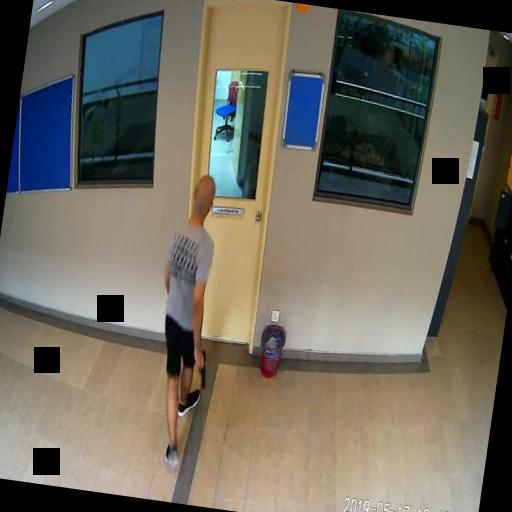Handgun: (190, 348, 208, 388)
